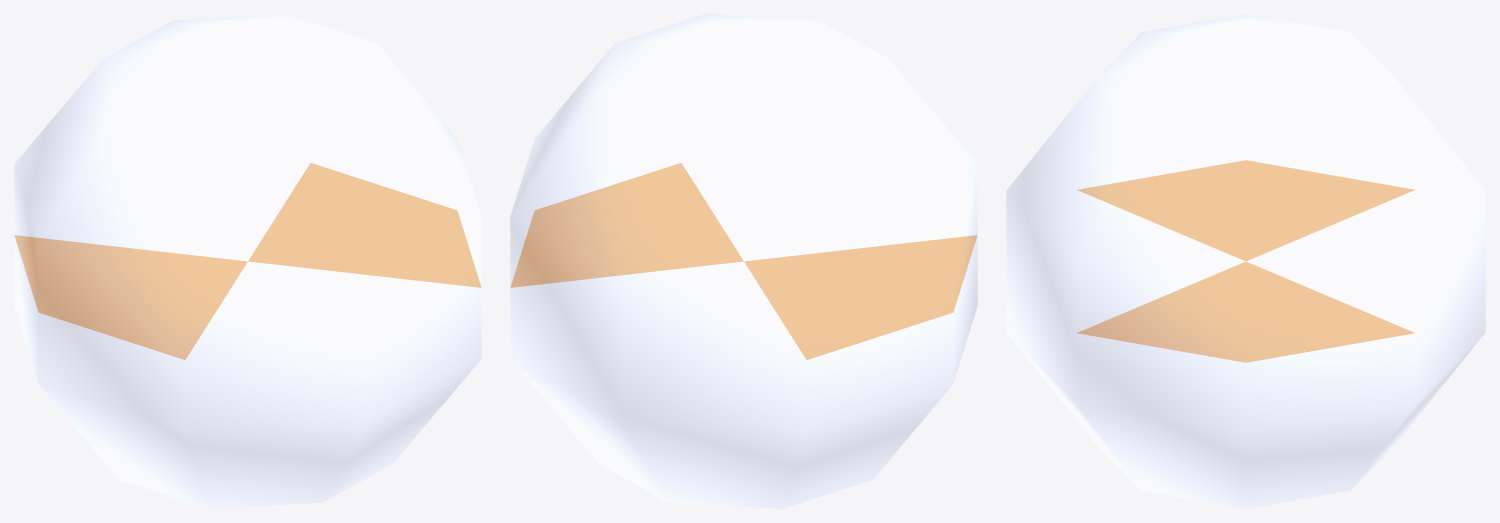
The model's file is marble-center-butterfly-low.glb.
3 renders of one model, left to right at view 1: azimuth 30°, elevation 25°; view 2: azimuth 150°, elevation 25°; view 3: azimuth 270°, elevation 25°, orthographic.
Visible parts, largest first — view 1: (%ignore), marble-center-butterfly-low; view 2: (%ignore), marble-center-butterfly-low; view 3: (%ignore), marble-center-butterfly-low.
Part boxes in pixels (x1,y1,x2,y2): (%ignore): (14,14,481,508); marble-center-butterfly-low: (14,163,481,359); (%ignore): (510,14,977,508); marble-center-butterfly-low: (510,163,977,359); (%ignore): (1006,14,1485,508); marble-center-butterfly-low: (1077,160,1414,362).
Bounding box in the file's own units: 0.3804 × 0.4 × 0.3804.
Materials: 2 (1 with a texture image).
